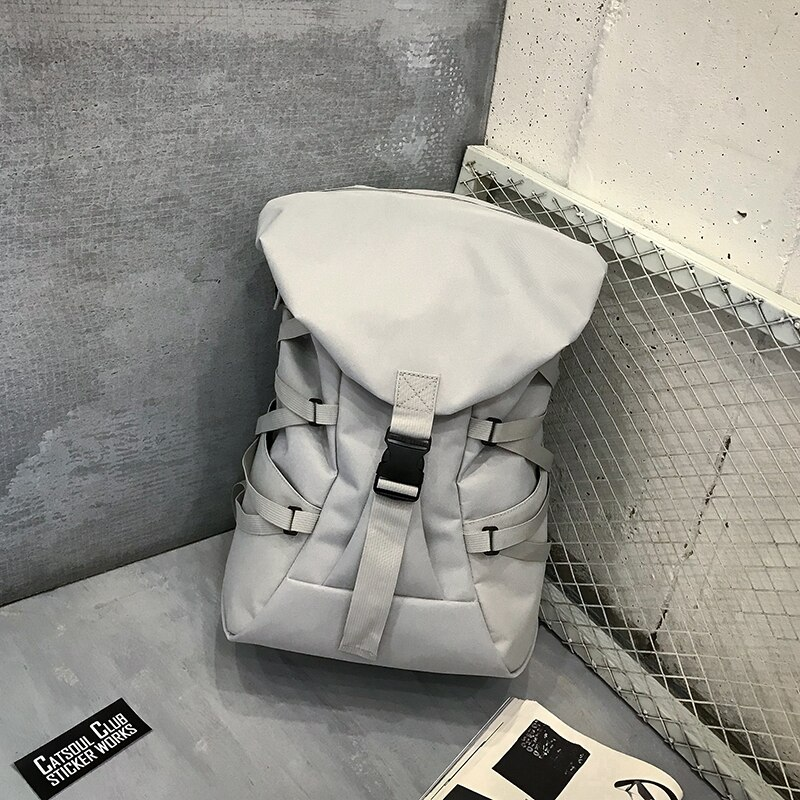Men's Backpacks: (218, 187, 605, 680)
